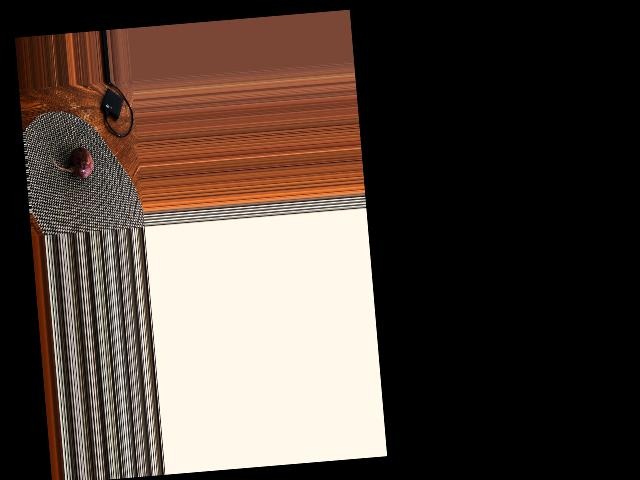beet: (50, 146, 93, 180)
